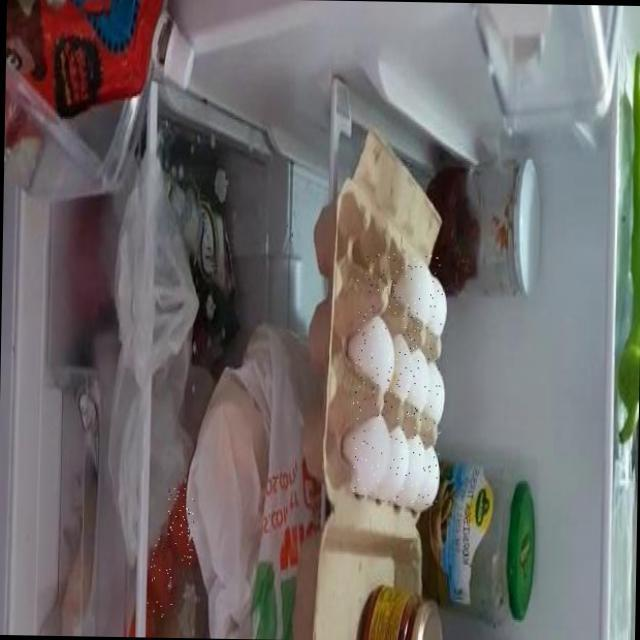Huevos: (350, 252, 443, 506)
tomato paste: (146, 535, 178, 618), (166, 488, 193, 564)
